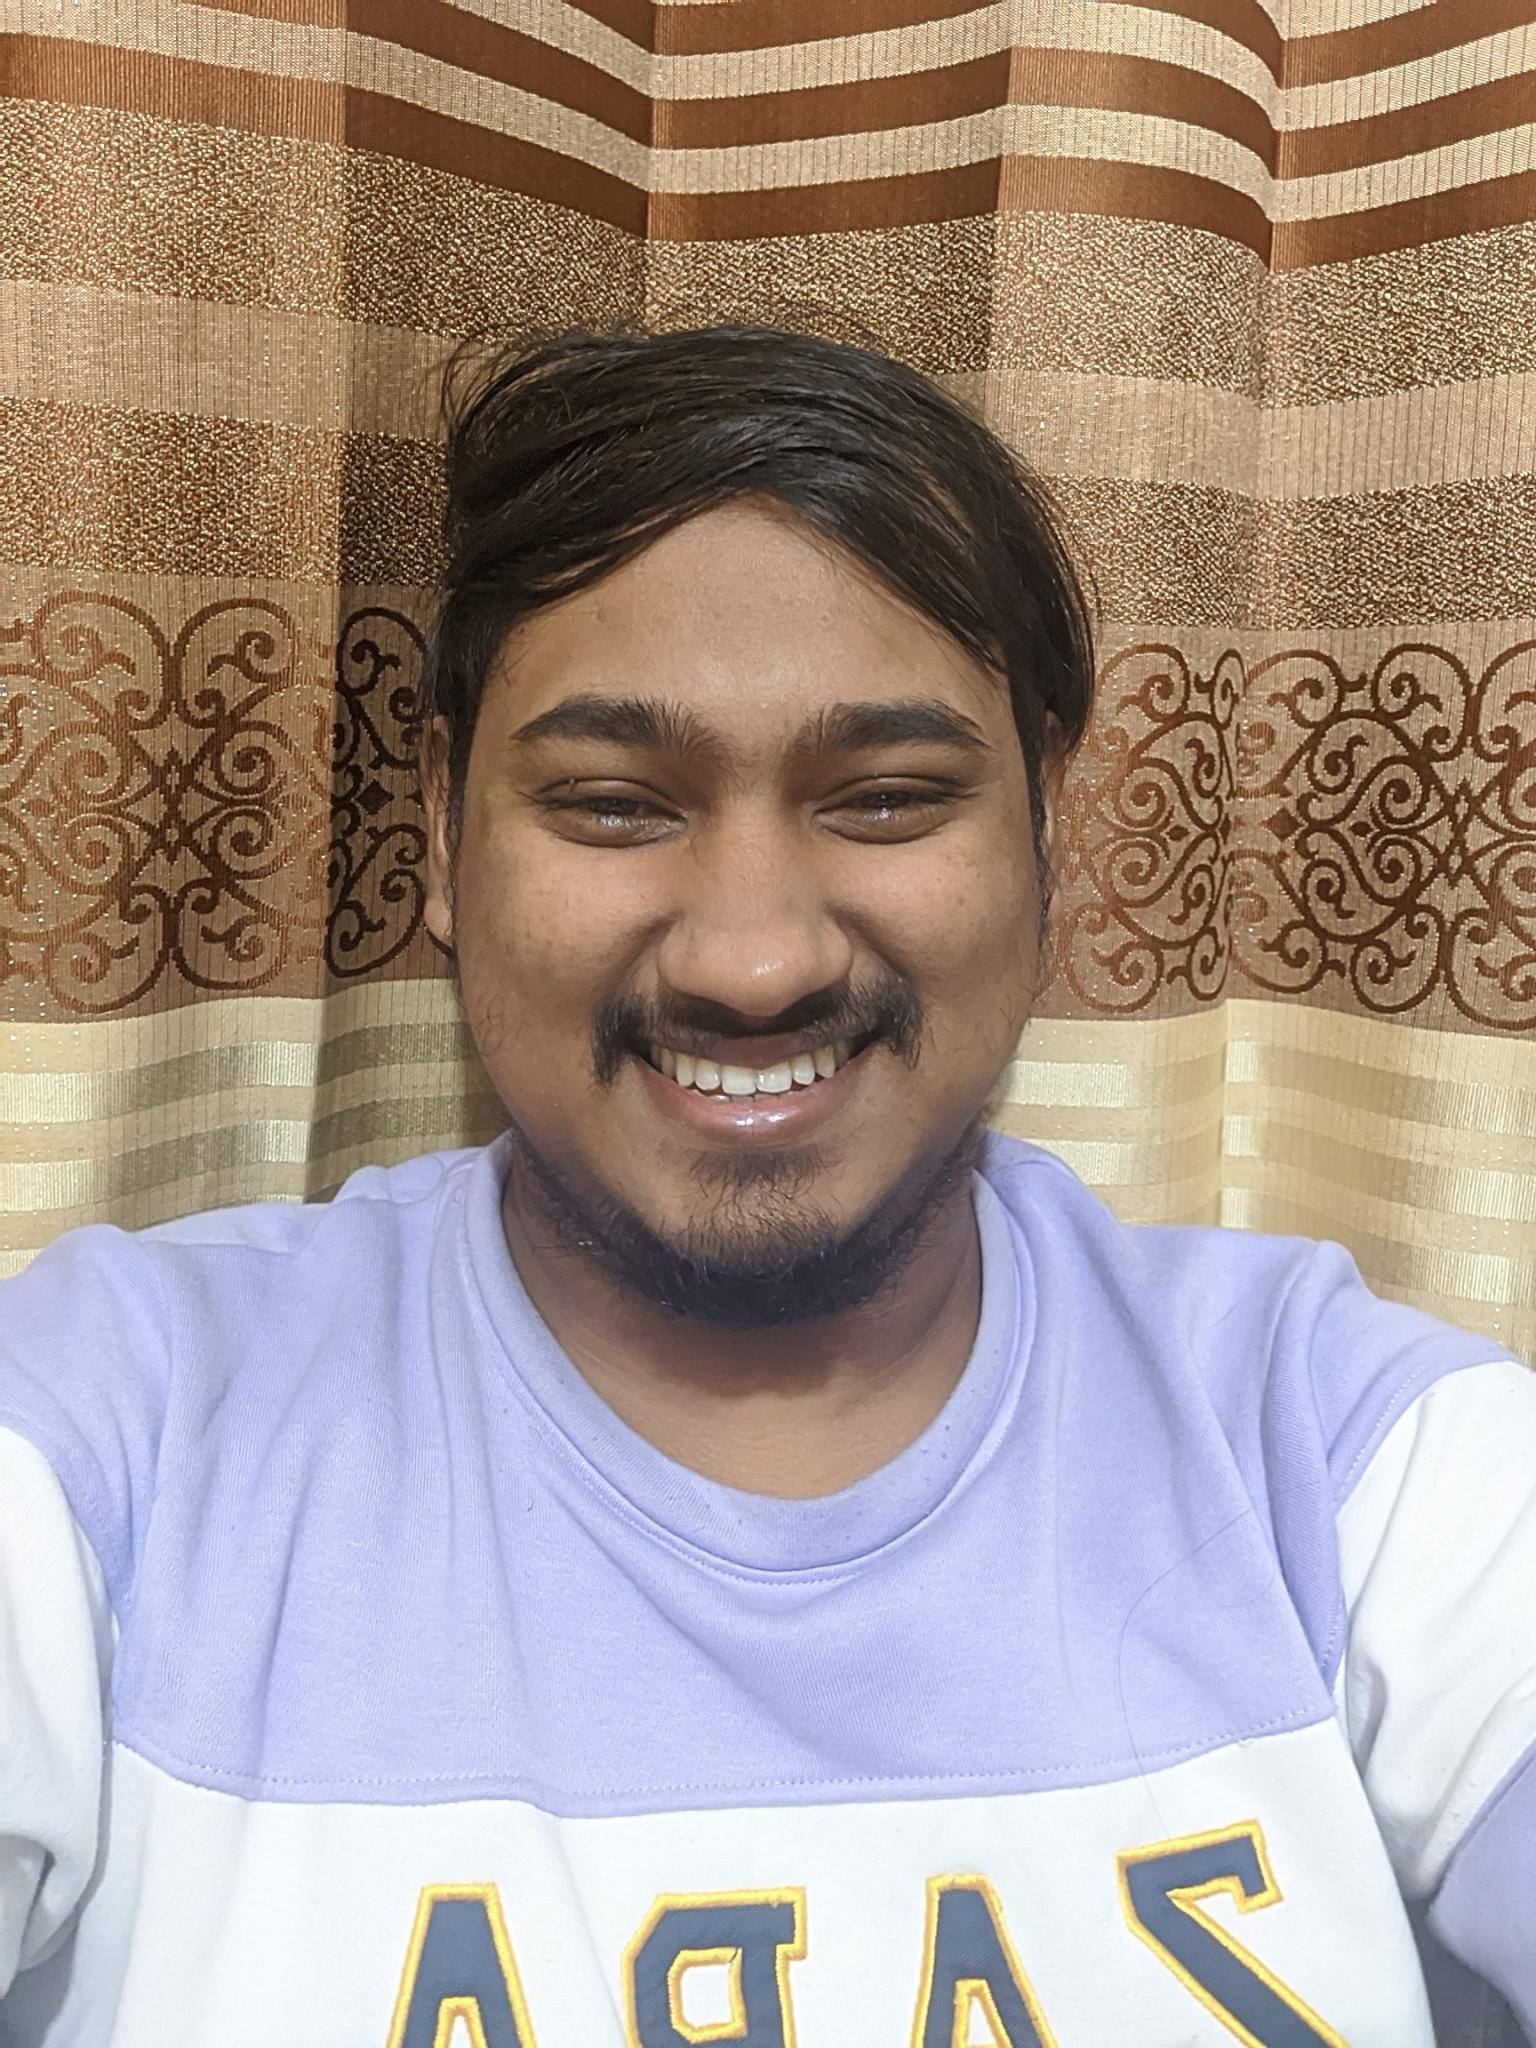Happy: (450, 592, 1042, 1255)
